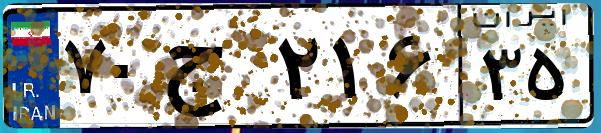0: (110, 28, 158, 98)
1: (330, 28, 385, 110)
2: (270, 28, 330, 110)
3: (475, 38, 525, 113)
5: (525, 38, 570, 115)
6: (385, 28, 445, 110)
7: (57, 26, 110, 100)
ج: (158, 20, 270, 120)
